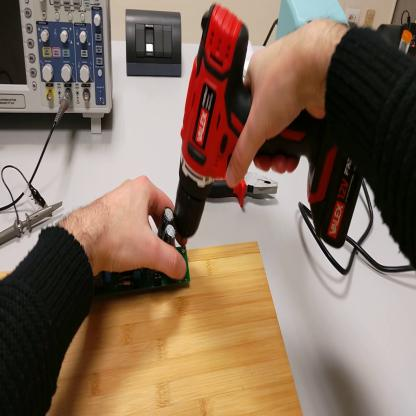electric screwdriver: (176, 3, 363, 251)
hand: (228, 20, 339, 190), (87, 177, 191, 281)
high voltage board: (94, 209, 192, 299)
oscilloscope: (1, 1, 115, 135)
oscilloscope probe tip: (2, 199, 62, 243)
pliers: (208, 181, 286, 206)
socket: (380, 23, 416, 52)
welder base: (401, 30, 412, 54)
welder station: (275, 4, 353, 48)
working area: (1, 241, 304, 416)
